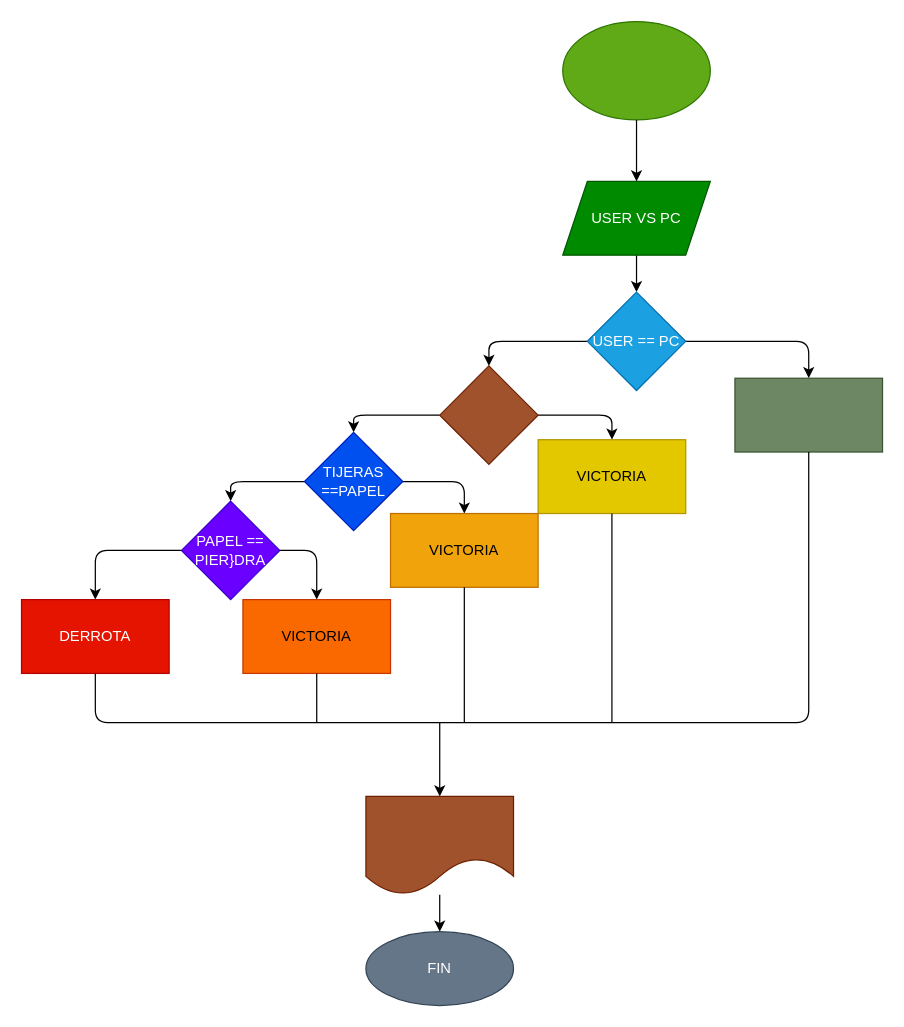
This 904x1027 diagram has some shape labels left out. The box of each missing label's shape, as (x1, y1, x2, y2) in pixels:
EMPATE: (734, 377, 883, 452)
INICIO: (561, 20, 710, 120)
PIEDRA ==TIJERAS: (438, 365, 538, 464)
SOLUCIÓN: (365, 795, 514, 895)
